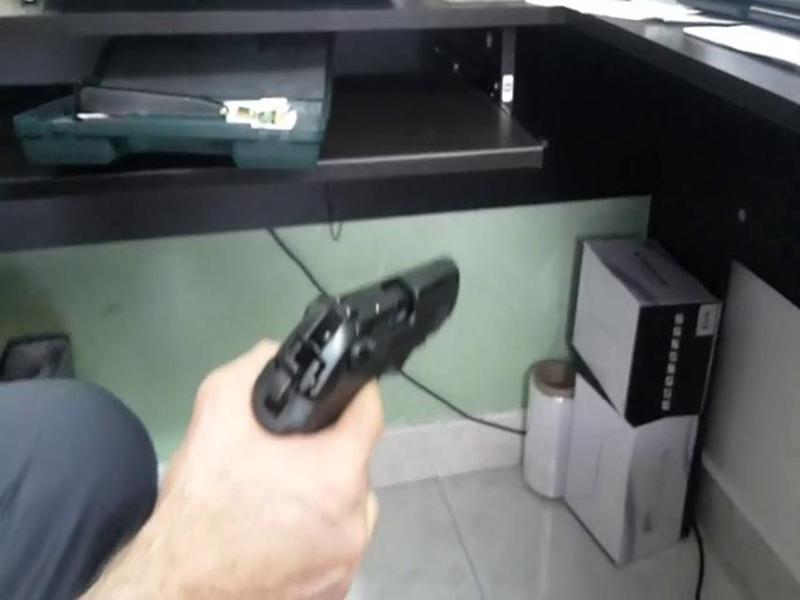Pistola: (210, 224, 474, 445)
